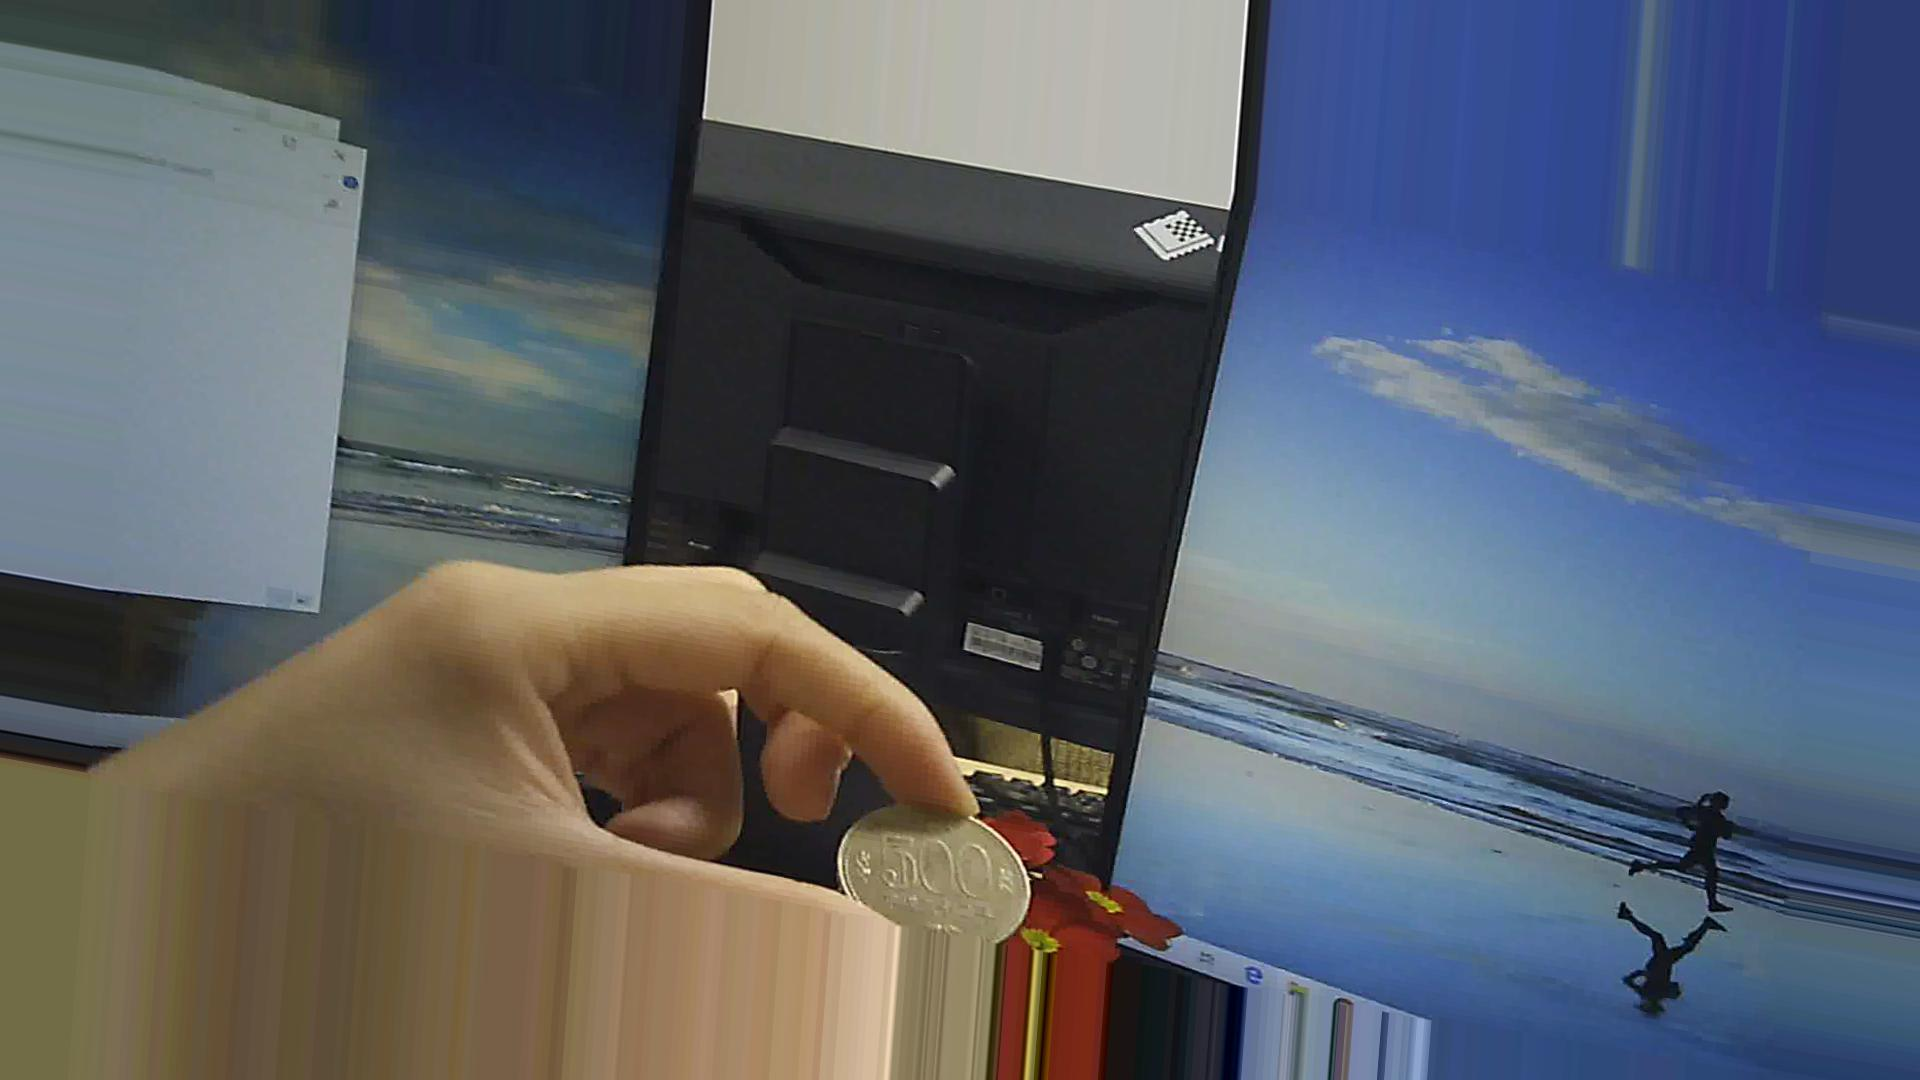500 Yen: (824, 795, 1050, 945)
